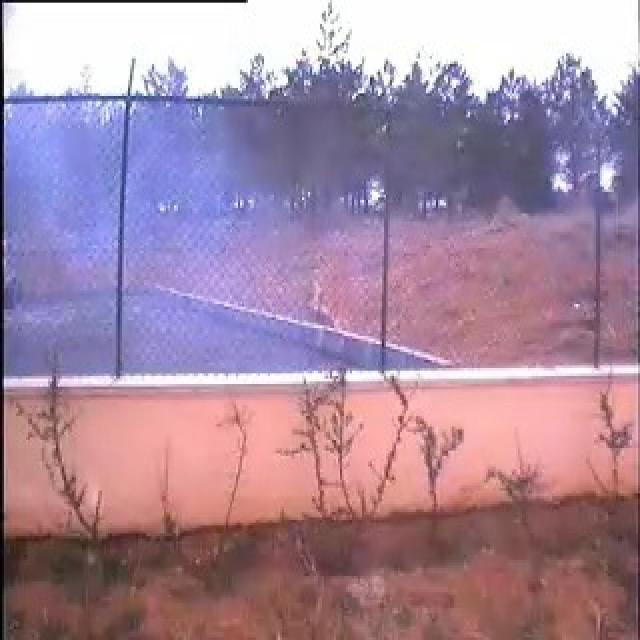smoke: (40, 120, 263, 351)
